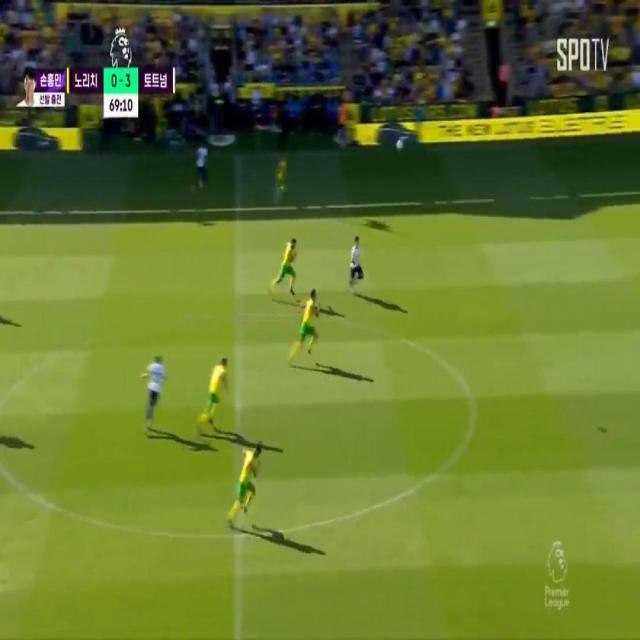player: (200, 359, 232, 421), (238, 441, 263, 518), (293, 291, 321, 357), (275, 238, 297, 300), (192, 138, 210, 197), (149, 351, 162, 419), (350, 236, 362, 300), (275, 152, 289, 202)
